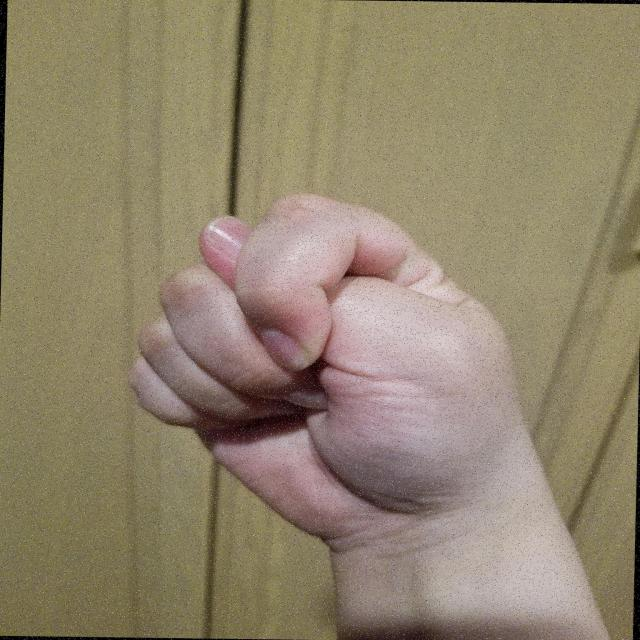T: (113, 182, 563, 556)
